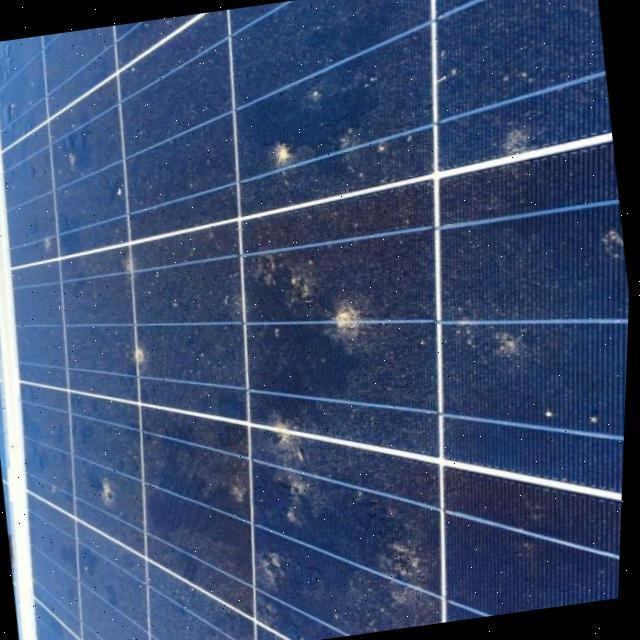Surface Contaminant: (356, 502, 463, 635), (256, 405, 330, 537), (455, 299, 529, 361), (326, 301, 381, 365), (249, 543, 299, 602), (259, 132, 304, 178), (90, 469, 127, 510), (127, 335, 157, 374), (504, 127, 529, 160)
